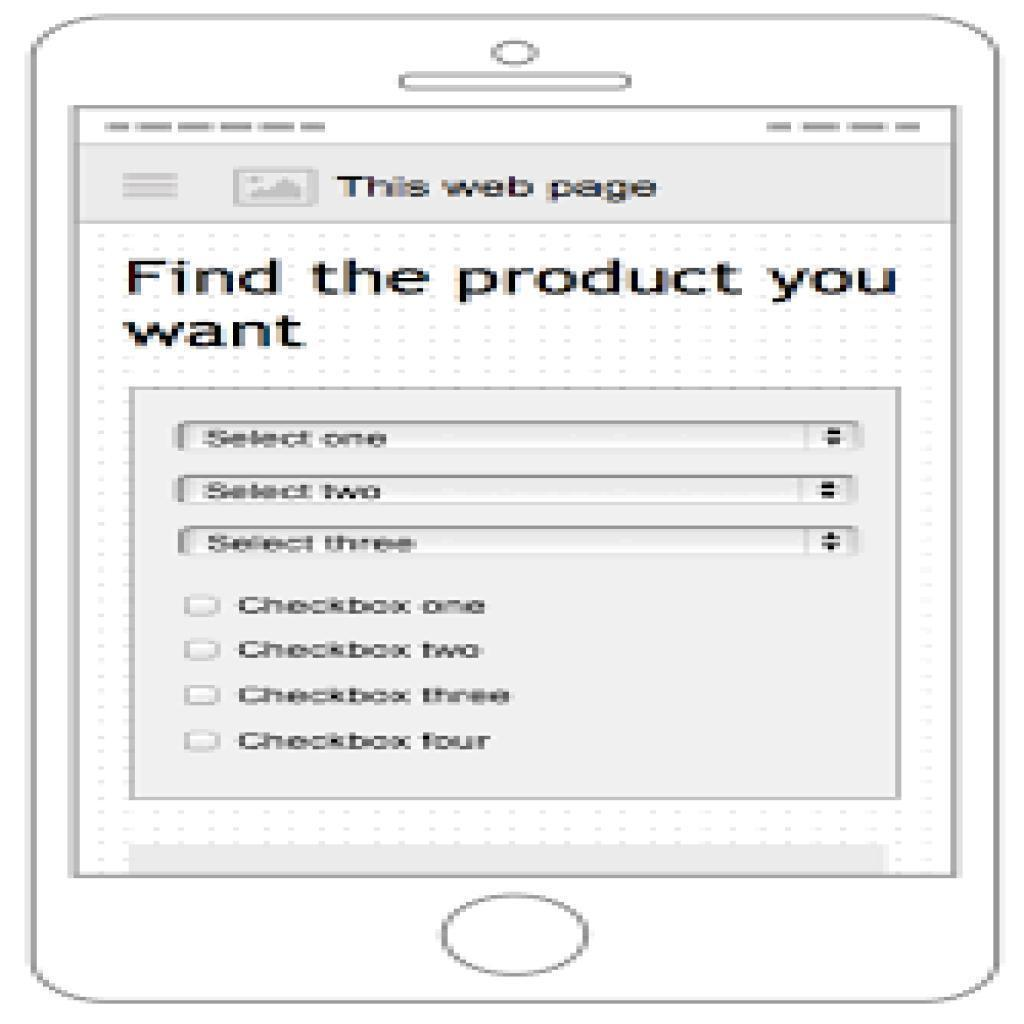checkbox: (178, 631, 221, 667), (182, 677, 221, 716), (183, 595, 226, 622), (182, 729, 228, 754)
dropdown: (175, 417, 867, 456), (175, 521, 862, 559), (173, 471, 862, 508)
icon: (230, 166, 320, 210), (114, 163, 188, 207)
